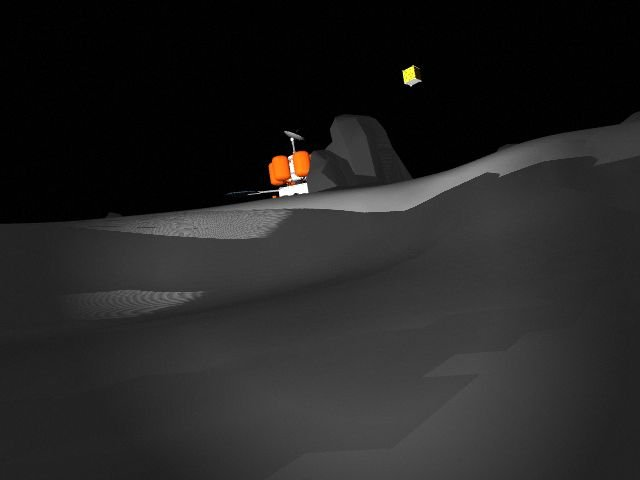cubesat: (397, 61, 432, 93)
